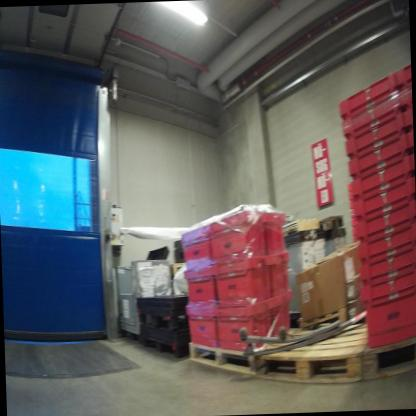pallet: (265, 309, 376, 389), (192, 317, 339, 371), (357, 303, 416, 383), (289, 293, 372, 337), (275, 211, 326, 249), (319, 209, 345, 238)
small_load_carrier: (357, 268, 416, 352), (214, 255, 276, 328), (207, 207, 268, 274), (214, 294, 278, 353), (335, 93, 404, 143), (340, 137, 410, 183), (334, 73, 401, 120), (353, 198, 416, 247), (255, 200, 293, 271), (344, 113, 407, 155), (346, 162, 412, 201), (355, 224, 416, 265), (350, 181, 412, 220), (179, 220, 221, 275), (354, 249, 414, 283), (184, 300, 221, 352), (180, 264, 219, 312), (266, 290, 301, 339), (267, 252, 294, 299), (392, 56, 409, 93), (403, 126, 414, 155), (400, 109, 413, 131), (402, 84, 412, 109)
